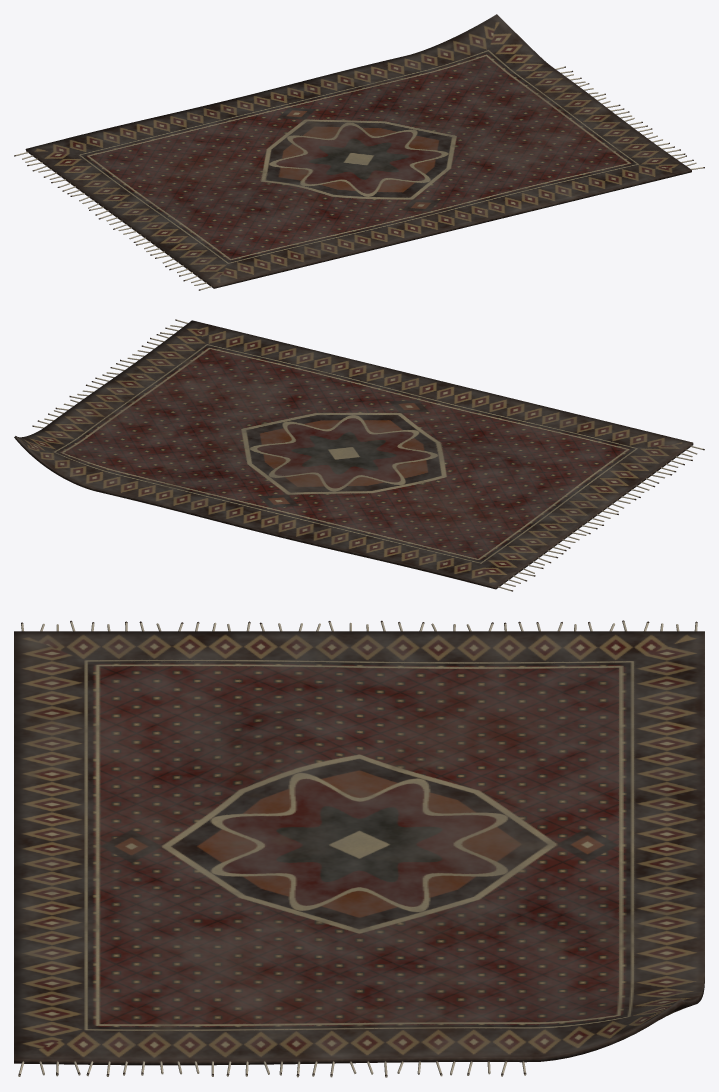
The model's file is Rug_Floor.fbx.
3 views of the same model, one above another, from view 1: azimuth 30°, elevation 25°; view 2: azimuth 150°, elevation 25°; view 3: azimuth 270°, elevation 25° (orthographic). The views are drawn at different scales.
Visible parts, largest first — view 1: Rug_Floor_Mesh; view 2: Rug_Floor_Mesh; view 3: Rug_Floor_Mesh.
Part boxes in pixels (left/top/right/bottom): Rug_Floor_Mesh: left=14, top=14, right=704, bottom=290; Rug_Floor_Mesh: left=14, top=319, right=704, bottom=591; Rug_Floor_Mesh: left=14, top=620, right=704, bottom=1077.
Size of the model in its own units: 2.34 by 0.1296 by 1.5.
